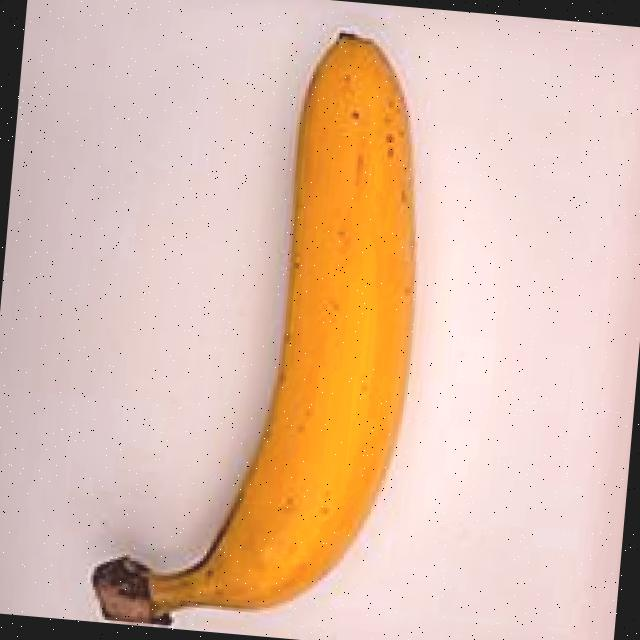Ripe: (60, 0, 481, 640)
